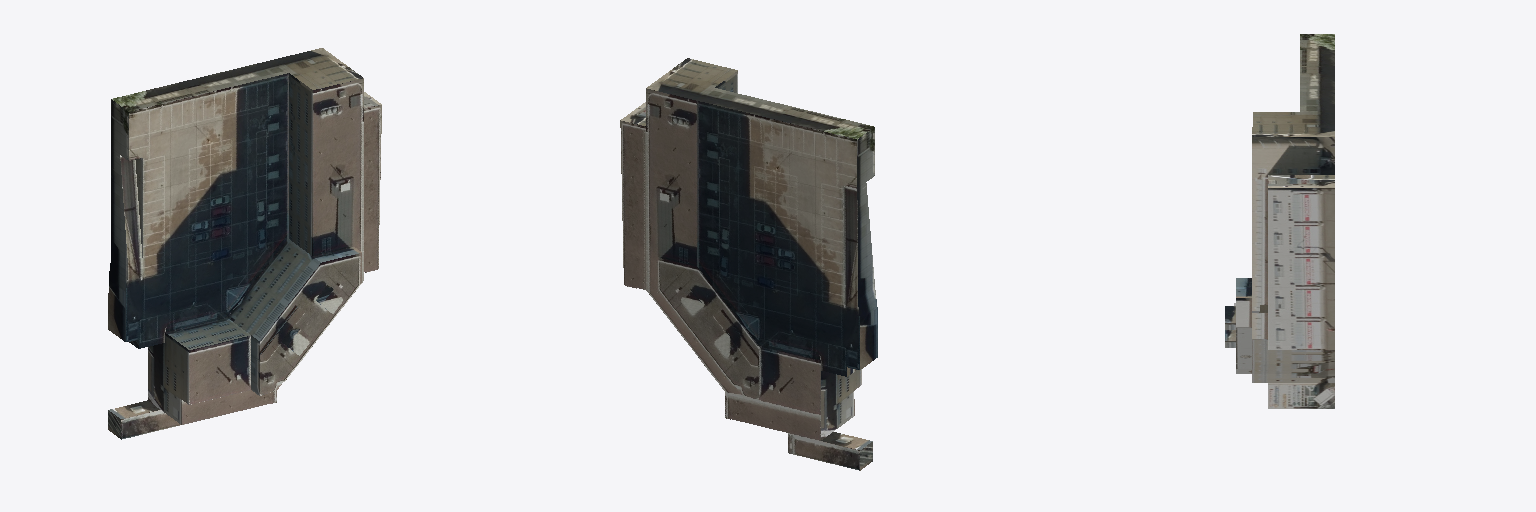
3 renders of one model, left to right at view 1: azimuth 30°, elevation 25°; view 2: azimuth 150°, elevation 25°; view 3: azimuth 270°, elevation 25°, orthographic.
Parts seen in each view (by area): view 1: talo_Build[number redacted]; view 2: talo_Build[number redacted]; view 3: talo_Build[number redacted].
Part boxes in pixels (x1,y1,x2,y2): talo_Build[number redacted]: (108, 48, 381, 439); talo_Build[number redacted]: (620, 58, 877, 470); talo_Build[number redacted]: (1225, 34, 1334, 408).
Size of the model in its own units: 5.62 by 7.4 by 2.25.
Materials: 82 (60 with a texture image).